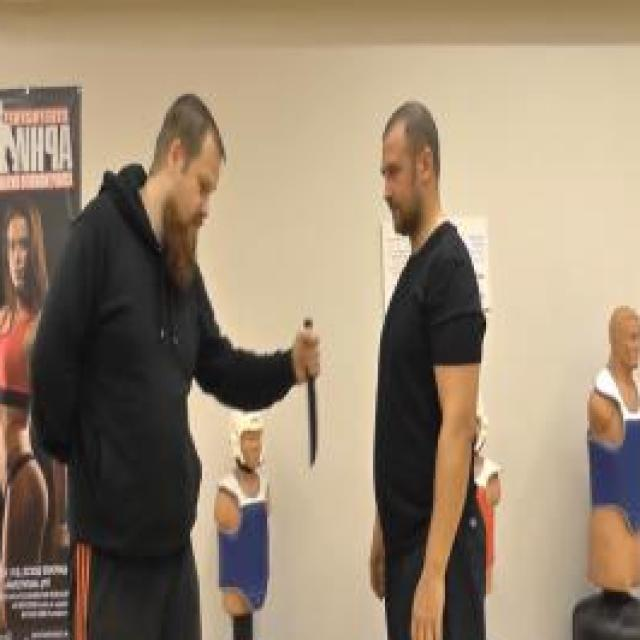knife: (300, 310, 327, 474)
